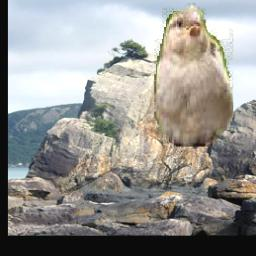Sparrow: (154, 3, 233, 159)
